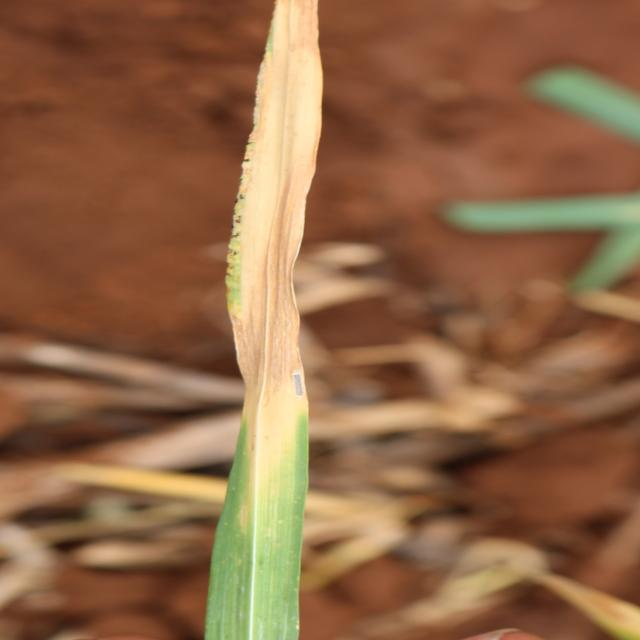Septoria: (202, 1, 325, 638)
